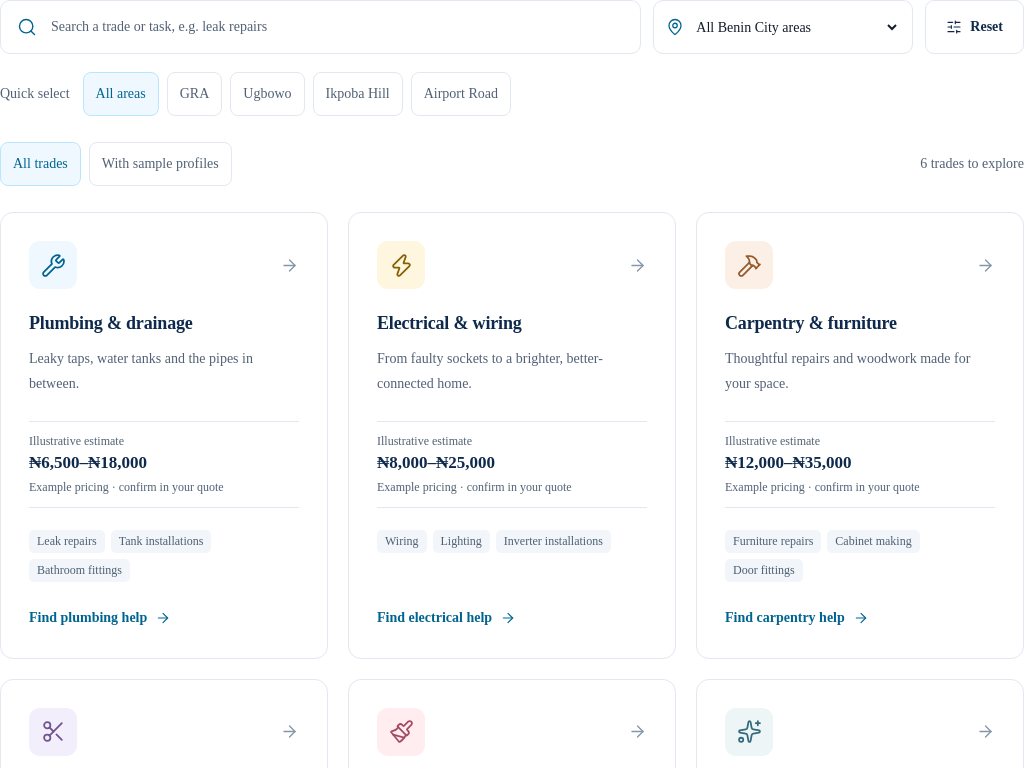
Test case: discovery interaction and recovery › filters services by the actual task and recovers from no matches
The image size is (1024, 768).
Type "cabinet" into the search field named "Search services". click: (337,27)
box: [49, 5, 624, 49]
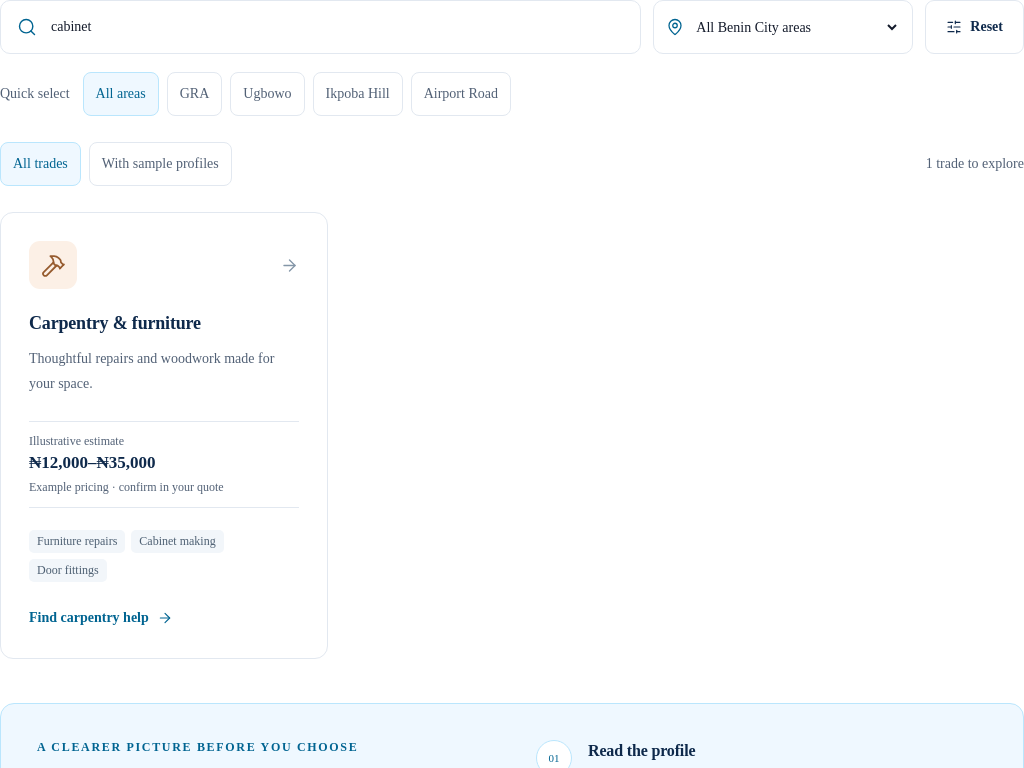
Expected: the heading "Carpentry & furniture" is shown, [29, 313, 201, 333]
Result: the message shows "1 trade" at [926, 156, 1023, 172]
Replace the text in the search field with "zz-no-match". click: (337,27)
box: [49, 5, 624, 49]
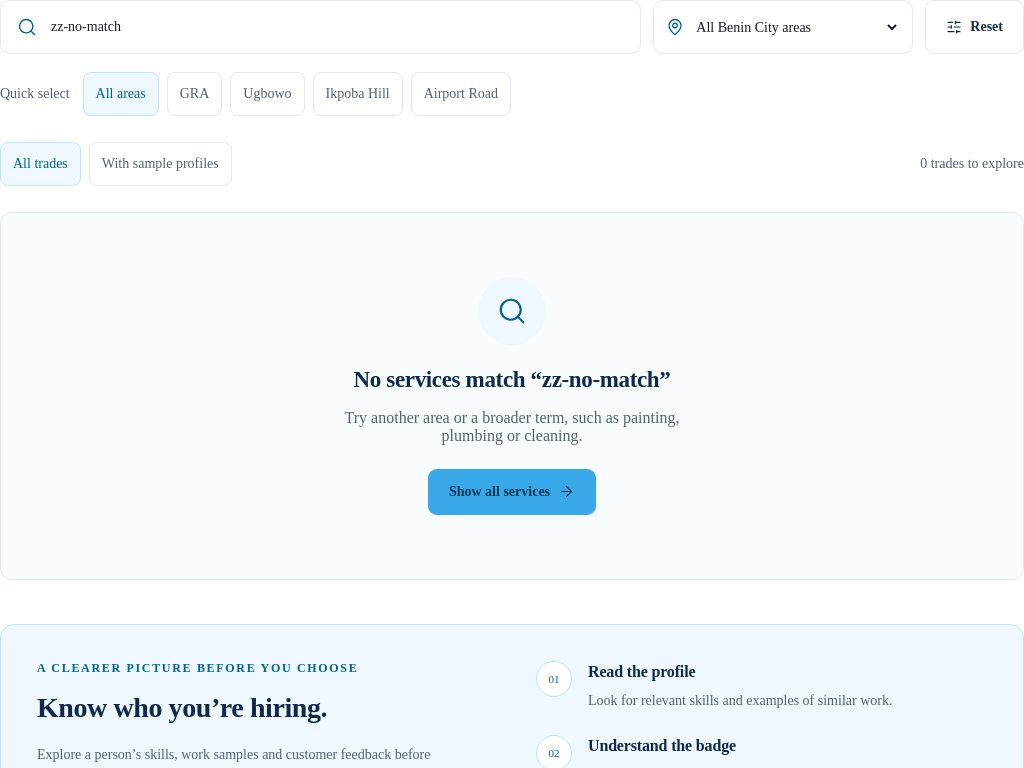
Result: the heading "No services match “zz-no-match”" is shown at [354, 365, 670, 395]
Click the button "Show all services". click: (512,492)
box: [428, 469, 596, 515]
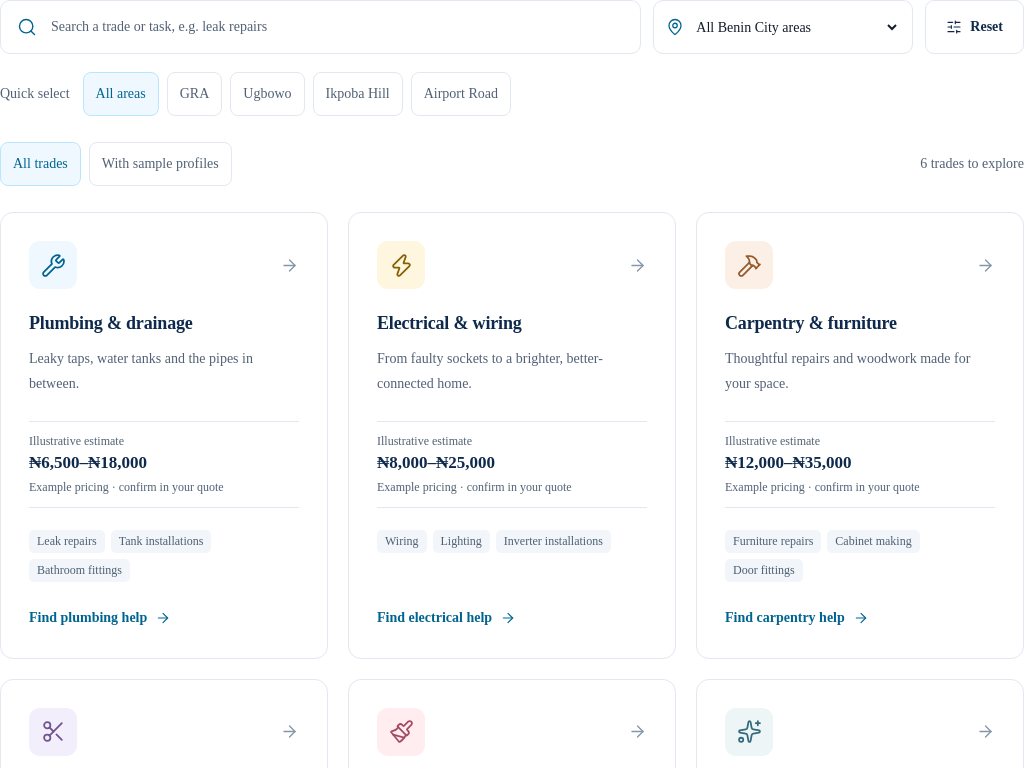
Result: the message shows "6 trades" at [920, 156, 1023, 172]
